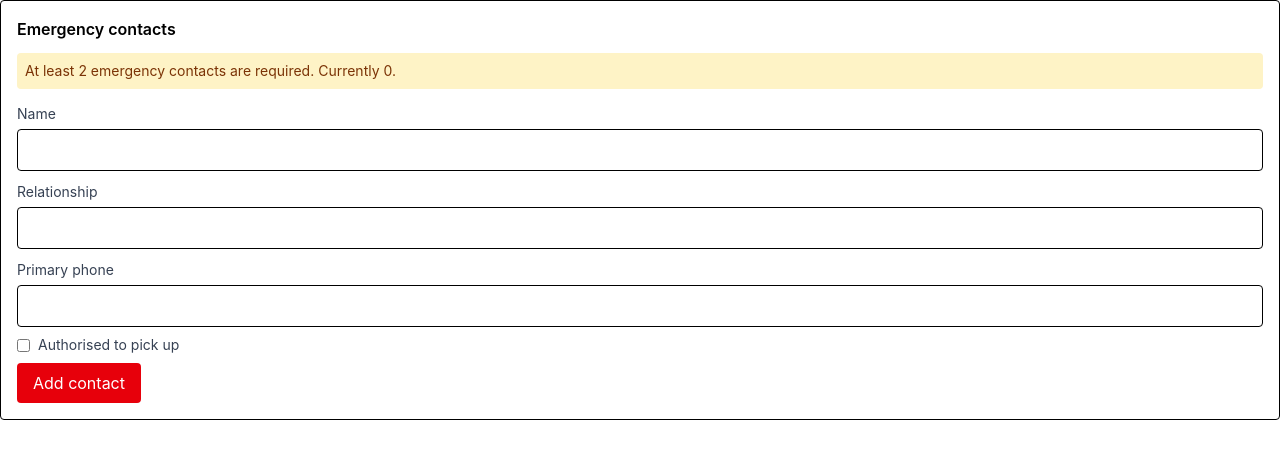
Test: EmergencyContactsForm min-contact gate (FR-003) › warns that the profile is incomplete with fewer than 2 contacts
expect the message shows "Currently 0": met, box [17, 53, 1263, 89]
Type "Jane Guardian" into the field labelled "Name" at [640, 150], box [17, 129, 1263, 171]
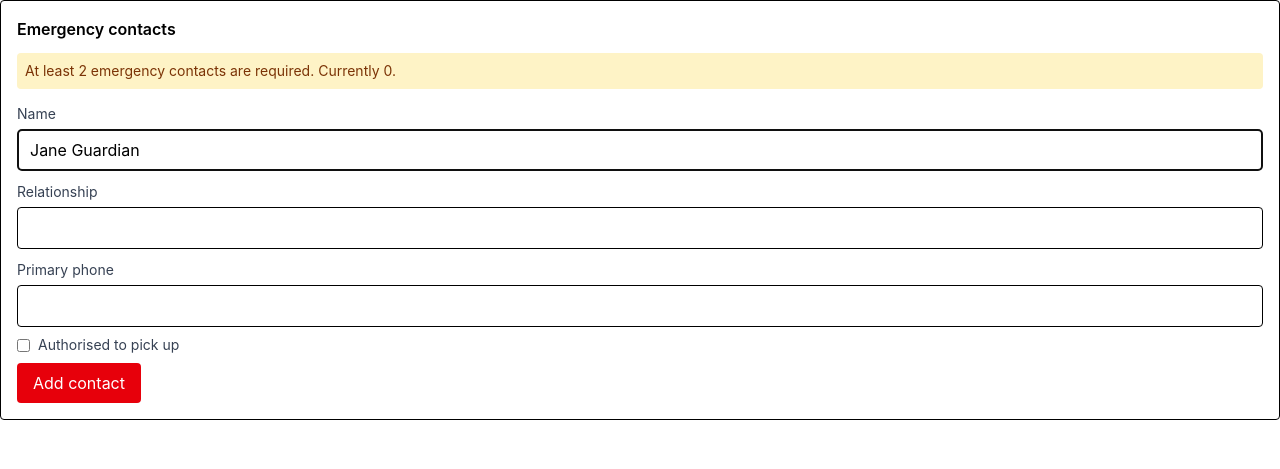
Type "Mother" into the field labelled "Relationship" at [640, 228], box [17, 207, 1263, 249]
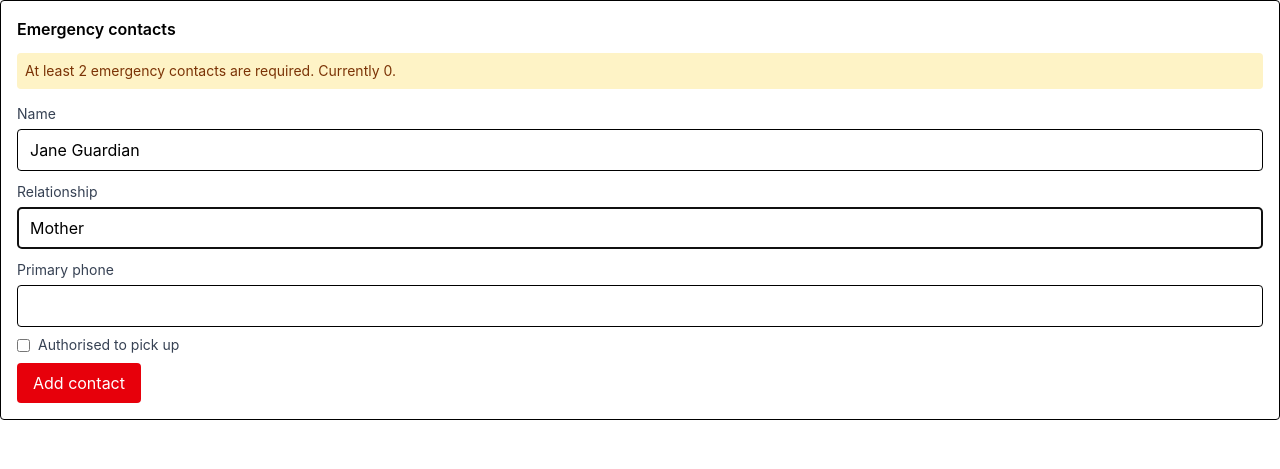
Type "555-0100" into the field labelled "Primary phone" at [640, 306], box [17, 285, 1263, 327]
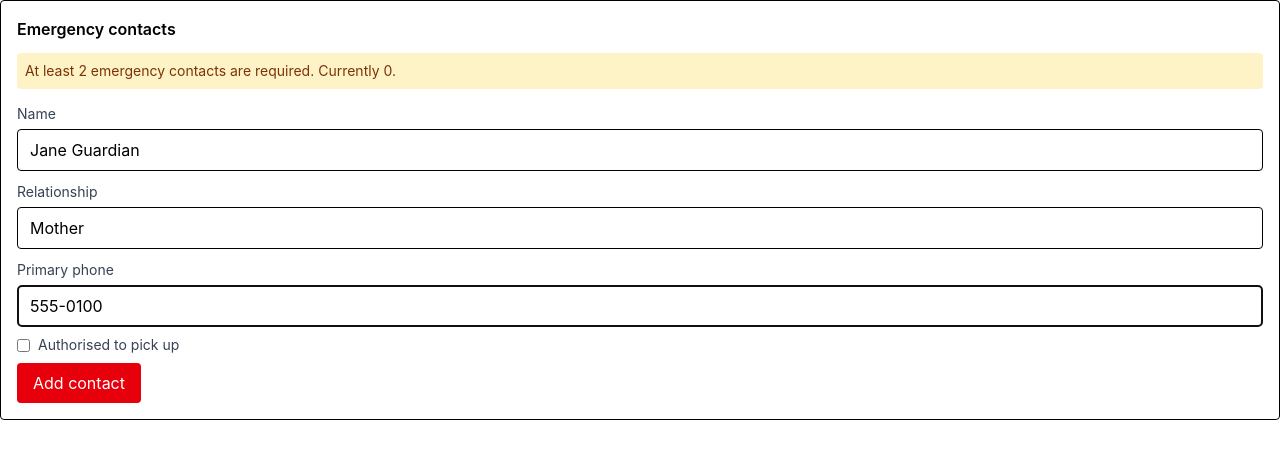
Click the button "Add contact" at [79, 383], box [17, 363, 141, 403]
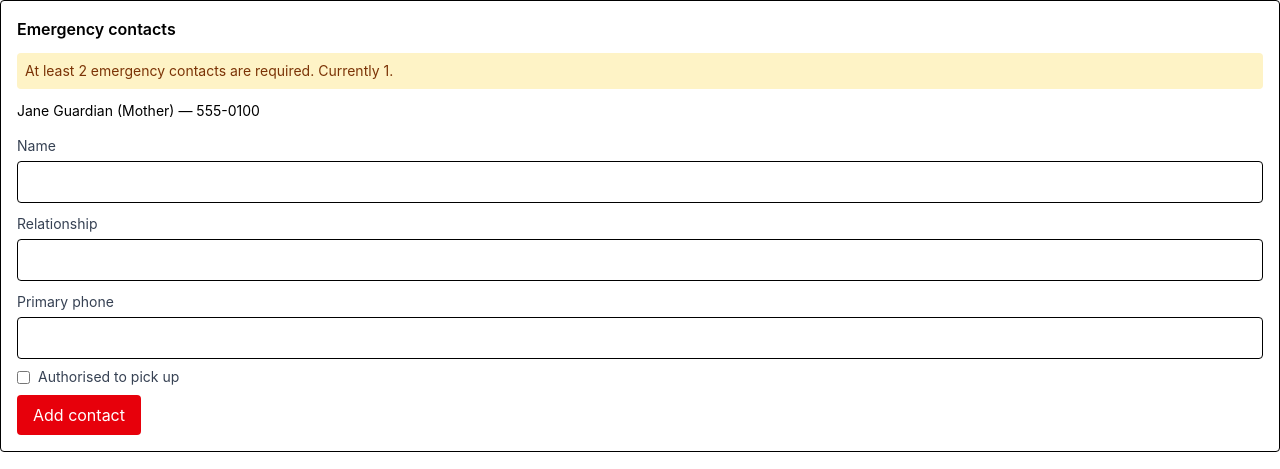
expect the message shows "Currently 1": met, box [17, 53, 1263, 89]
